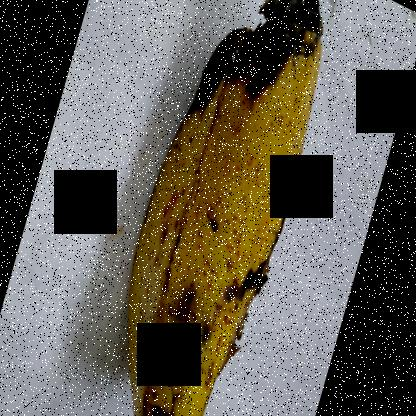rotten: (187, 0, 354, 133), (191, 198, 297, 382), (110, 275, 203, 415)
